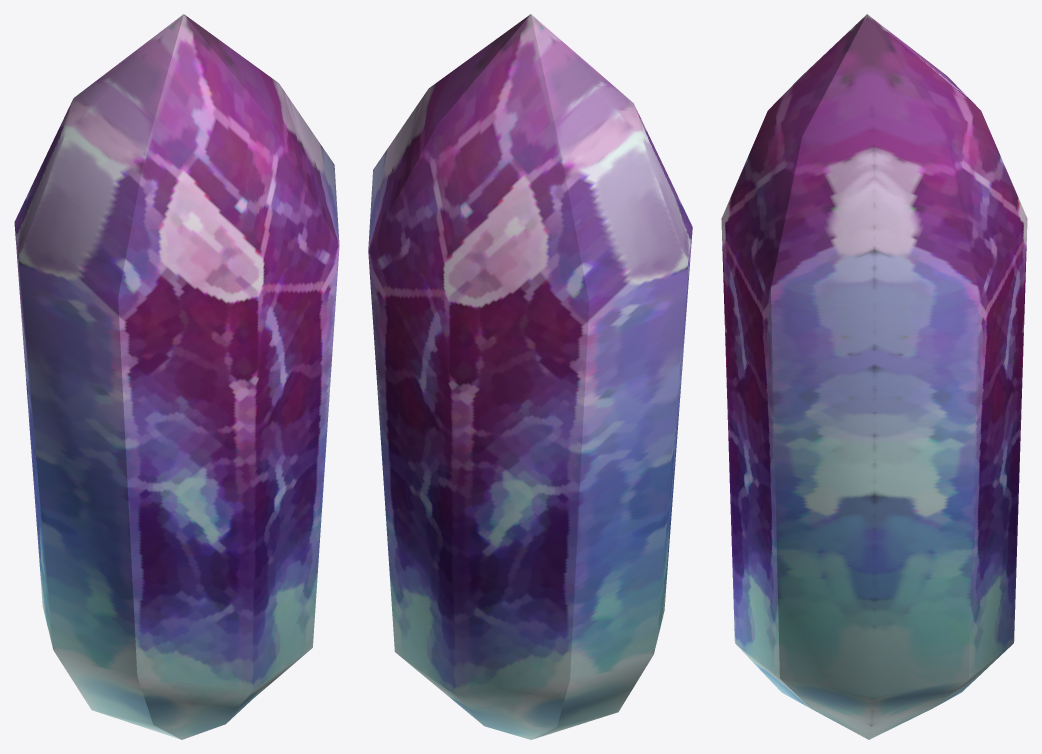
Rendered from linghunjinghua01.FBX.
The picture shows the model from 3 angles, left to right: view 1: azimuth 30°, elevation 25°; view 2: azimuth 150°, elevation 25°; view 3: azimuth 270°, elevation 25°; orthographic projection.
Parts seen in each view (by area): view 1: linghunjinghua; view 2: linghunjinghua; view 3: linghunjinghua.
Boxes of the visible parts, <box> form: linghunjinghua: <box>14,14,339,739</box>; linghunjinghua: <box>368,14,692,739</box>; linghunjinghua: <box>721,14,1027,739</box>.
Bounding box in the file's own units: 27.96 × 61.55 × 23.5.
